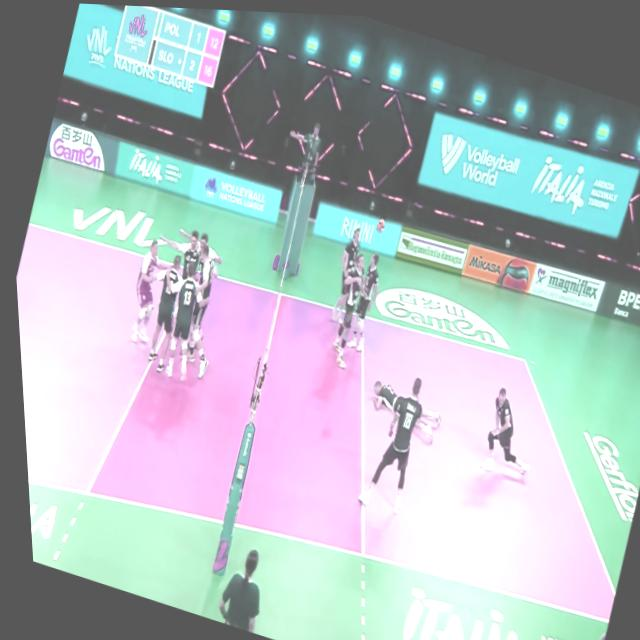player: (344, 362, 434, 513), (161, 241, 235, 376), (142, 252, 213, 381), (126, 246, 192, 375), (468, 379, 545, 481), (315, 246, 374, 368), (113, 229, 172, 351), (357, 372, 442, 441), (319, 220, 368, 327), (338, 245, 387, 350), (159, 220, 224, 272)
